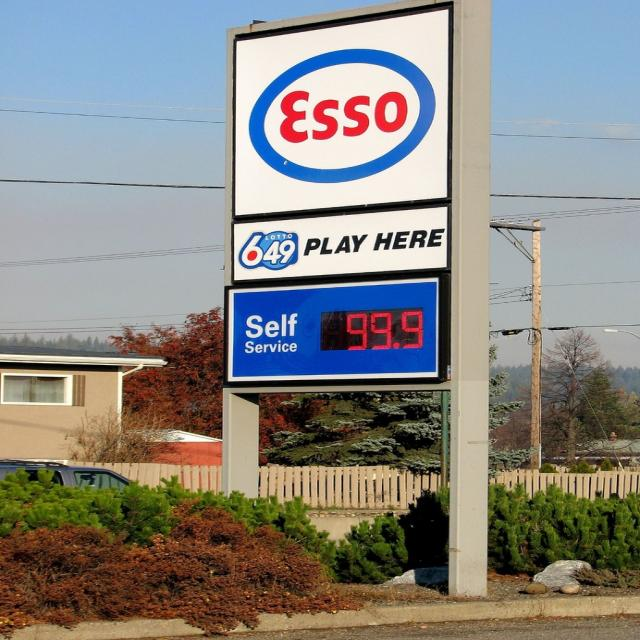esso: (243, 44, 445, 191)
